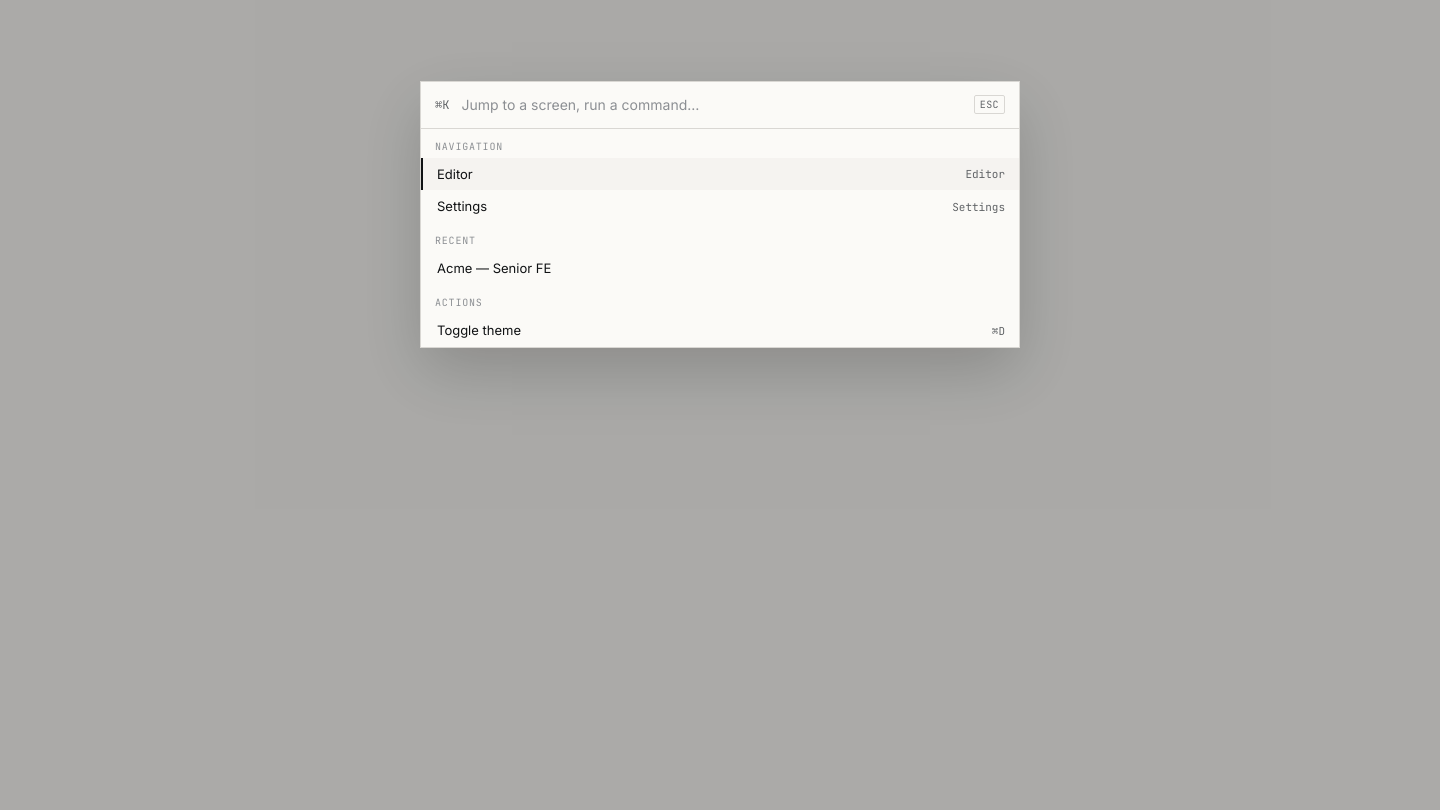
Test: typing filters items by label substring
Type "ed" into the field named "search commands".
click(712, 105); type("ed")  # box [459, 94, 964, 116]
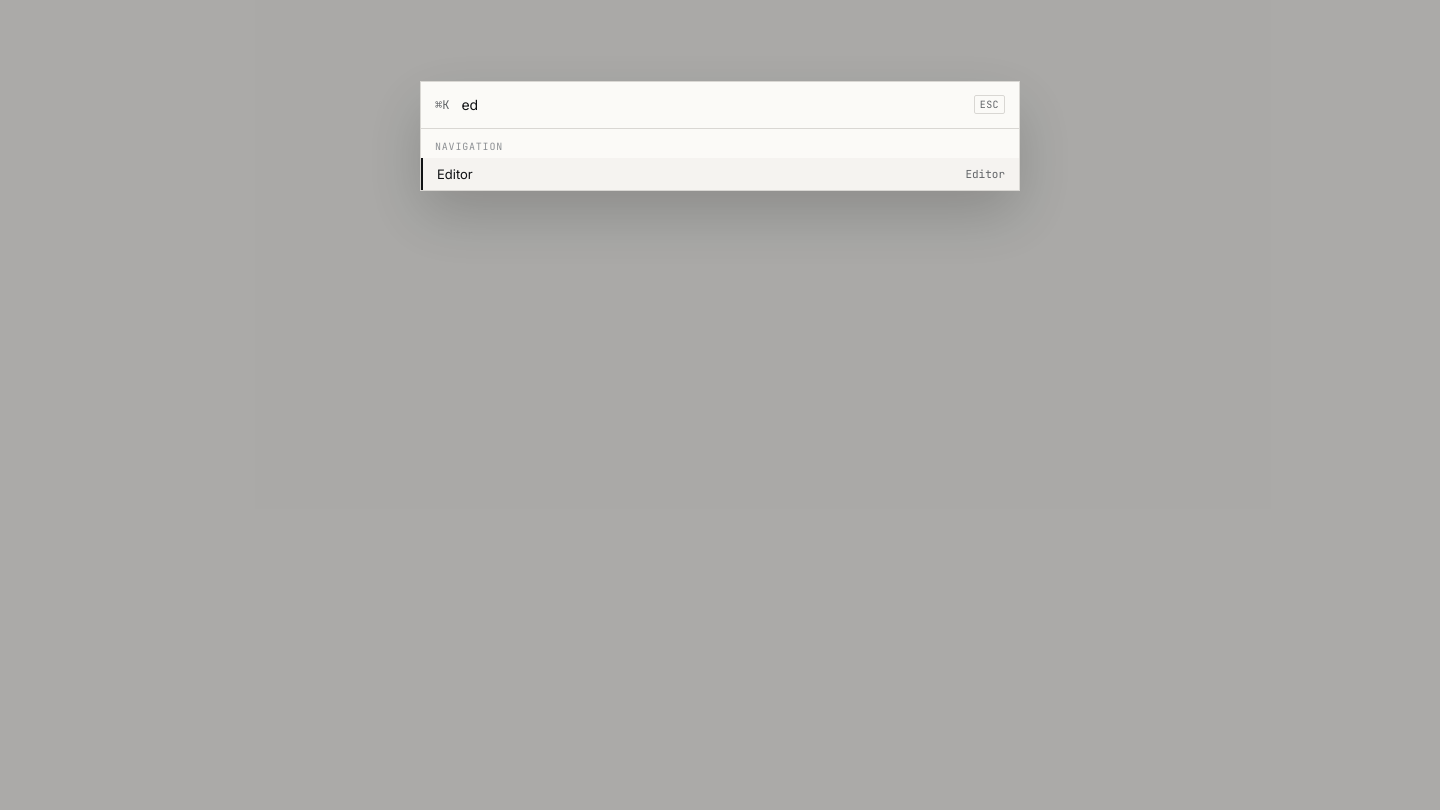
Expected: the option "Editor Editor" is shown, [421, 158, 1019, 190]
Result: the option "Settings" is gone
Result: the option "Toggle theme" is gone
